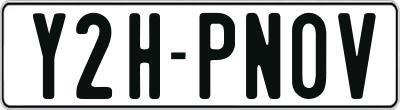0: (291, 11, 331, 98)
2: (75, 12, 112, 98)
H: (126, 11, 162, 103)
N: (243, 11, 283, 102)
P: (198, 13, 239, 105)
V: (335, 10, 379, 100)
Y: (30, 10, 67, 99)
